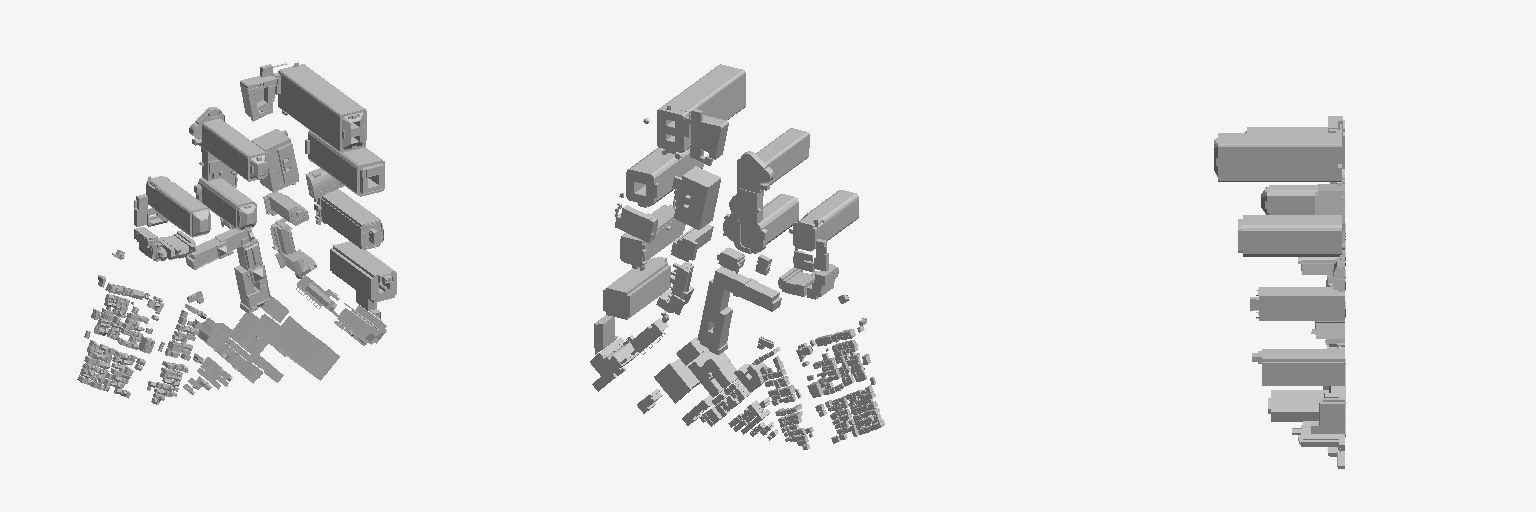
File: 533946022_bldg_6677.obj
3 views of the same model, side by side, from view 1: azimuth 30°, elevation 25°; view 2: azimuth 150°, elevation 25°; view 3: azimuth 270°, elevation 25° (orthographic).
Bounding box in the file's own units: 462 × 476 × 182.